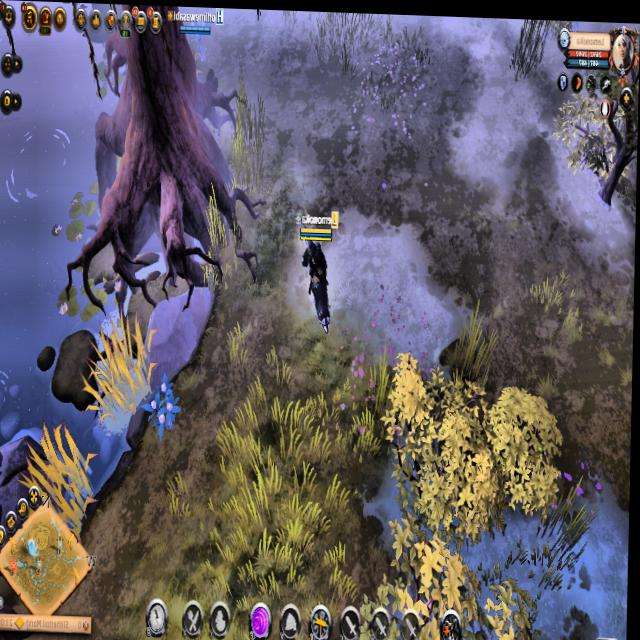fiber tier 4: (143, 369, 189, 443)
fish: (4, 119, 78, 221)
